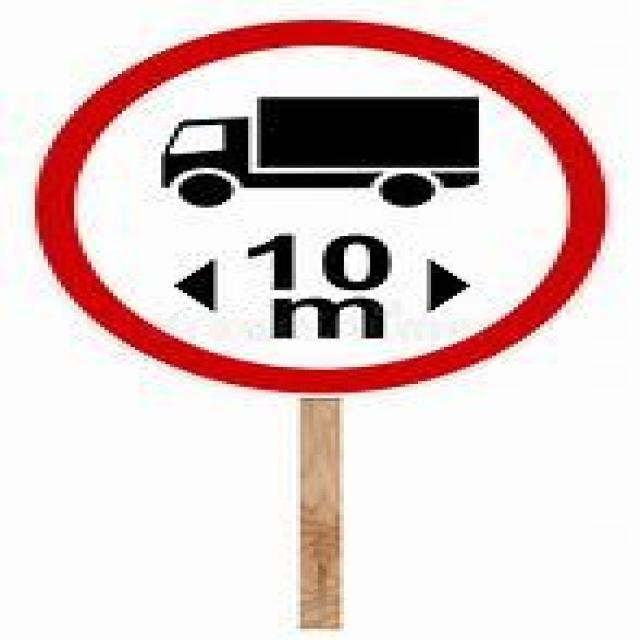LENGTH_LIMIT: (34, 19, 606, 396)
